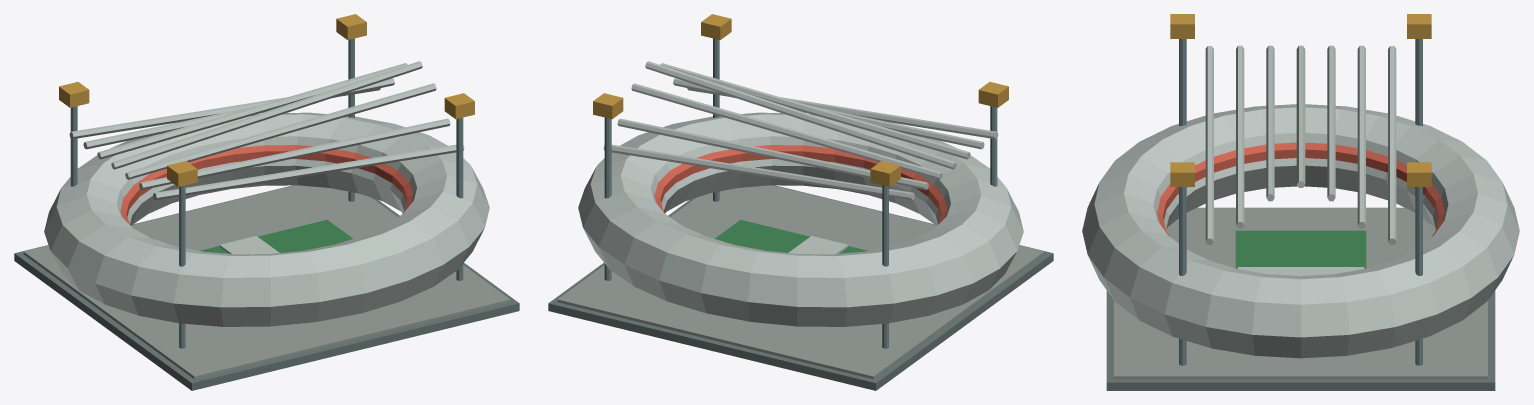
Rendered from stadium_lv3.glb.
3 renders of one model, left to right at view 1: azimuth 30°, elevation 25°; view 2: azimuth 150°, elevation 25°; view 3: azimuth 270°, elevation 25°, orthographic. The views are drawn at different scales.
Visible parts, largest first — view 1: rough, metallic; view 2: rough, metallic; view 3: rough, metallic.
Boxes of the visible parts, x1,y1,x2,y2 form: rough: (14,14,519,390); metallic: (70,38,463,348); rough: (548,14,1053,390); metallic: (604,38,997,348); rough: (1082,14,1519,390); metallic: (1179,39,1422,365).
Size of the model in its own units: 11.91 by 5.49 by 10.36.
